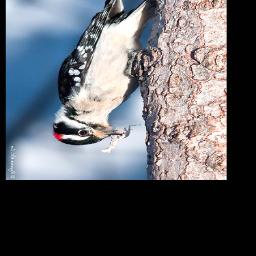Woodpecker: (52, 0, 156, 146)
